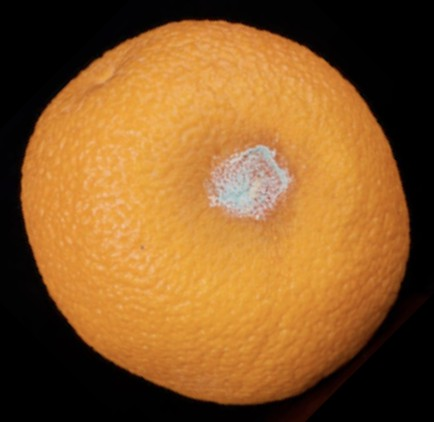rotten_orange: (21, 21, 408, 404)
